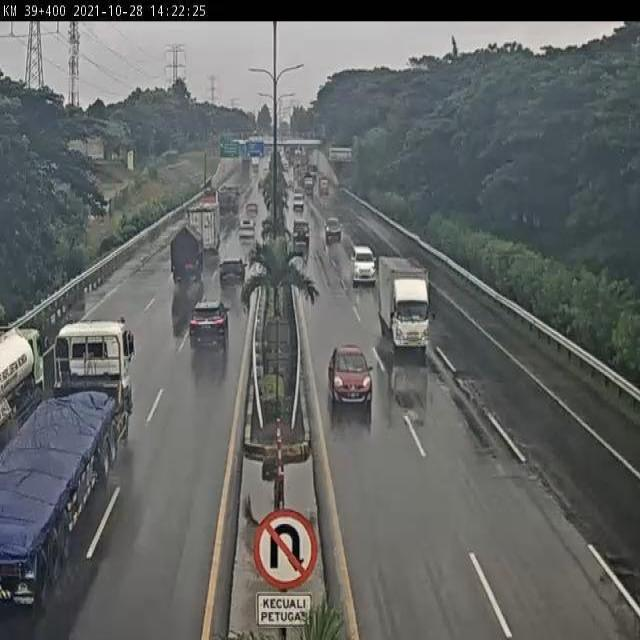ARABA: (189, 298, 228, 351), (349, 245, 378, 283), (219, 256, 245, 287), (291, 215, 312, 245), (324, 214, 342, 242)
KAMYONET: (380, 259, 433, 353), (0, 326, 46, 430), (170, 228, 205, 285)
TIR: (0, 320, 135, 621), (182, 203, 221, 261)
